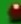brown: (0, 0, 21, 24)
